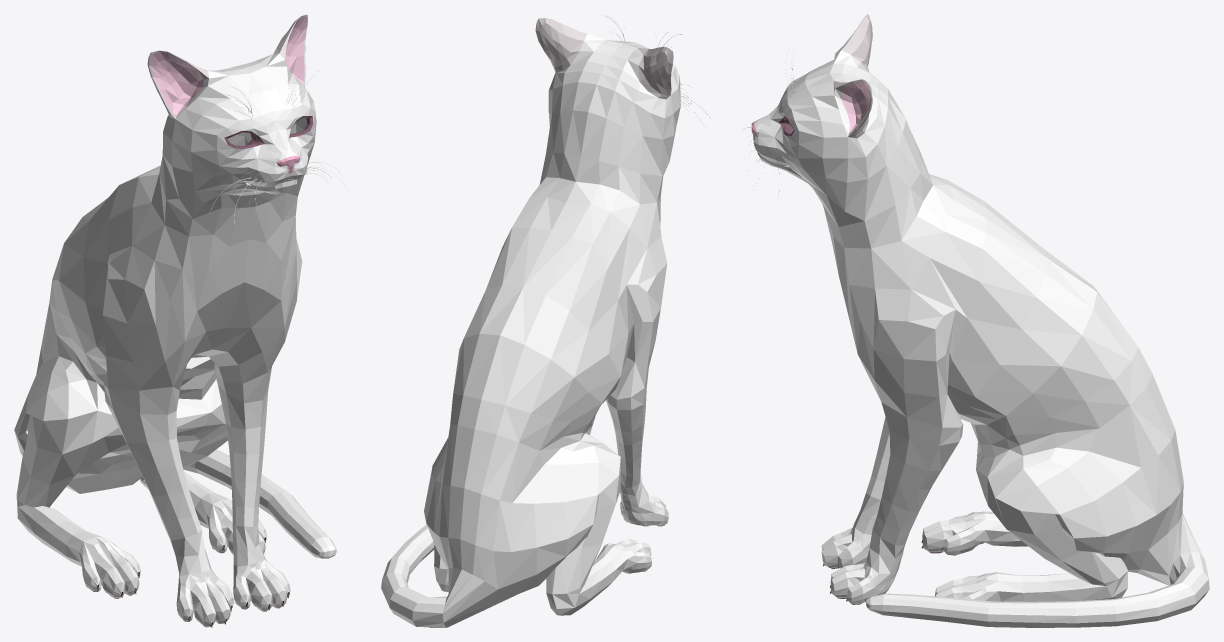
The model's file is Pet_sit_01.glb.
3 views of the same model, side by side, from view 1: azimuth 30°, elevation 25°; view 2: azimuth 150°, elevation 25°; view 3: azimuth 270°, elevation 25° (orthographic). The views are drawn at different scales.
Parts seen in each view (by area): view 1: Pet_sit_01; view 2: Pet_sit_01; view 3: Pet_sit_01.
Boxes of the visible parts, box(x1,y1,x2,y2) form: Pet_sit_01: box(14, 14, 351, 627); Pet_sit_01: box(381, 16, 710, 627); Pet_sit_01: box(743, 14, 1209, 627).
Bounding box in the file's own units: 0.1879 × 0.4445 × 0.3539.
1 material, 1 textured.
